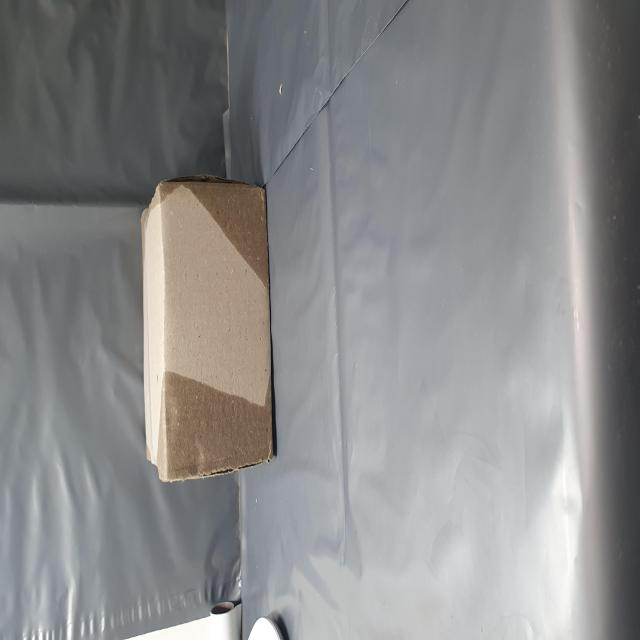wet: (92, 274, 152, 491), (212, 276, 257, 479)
